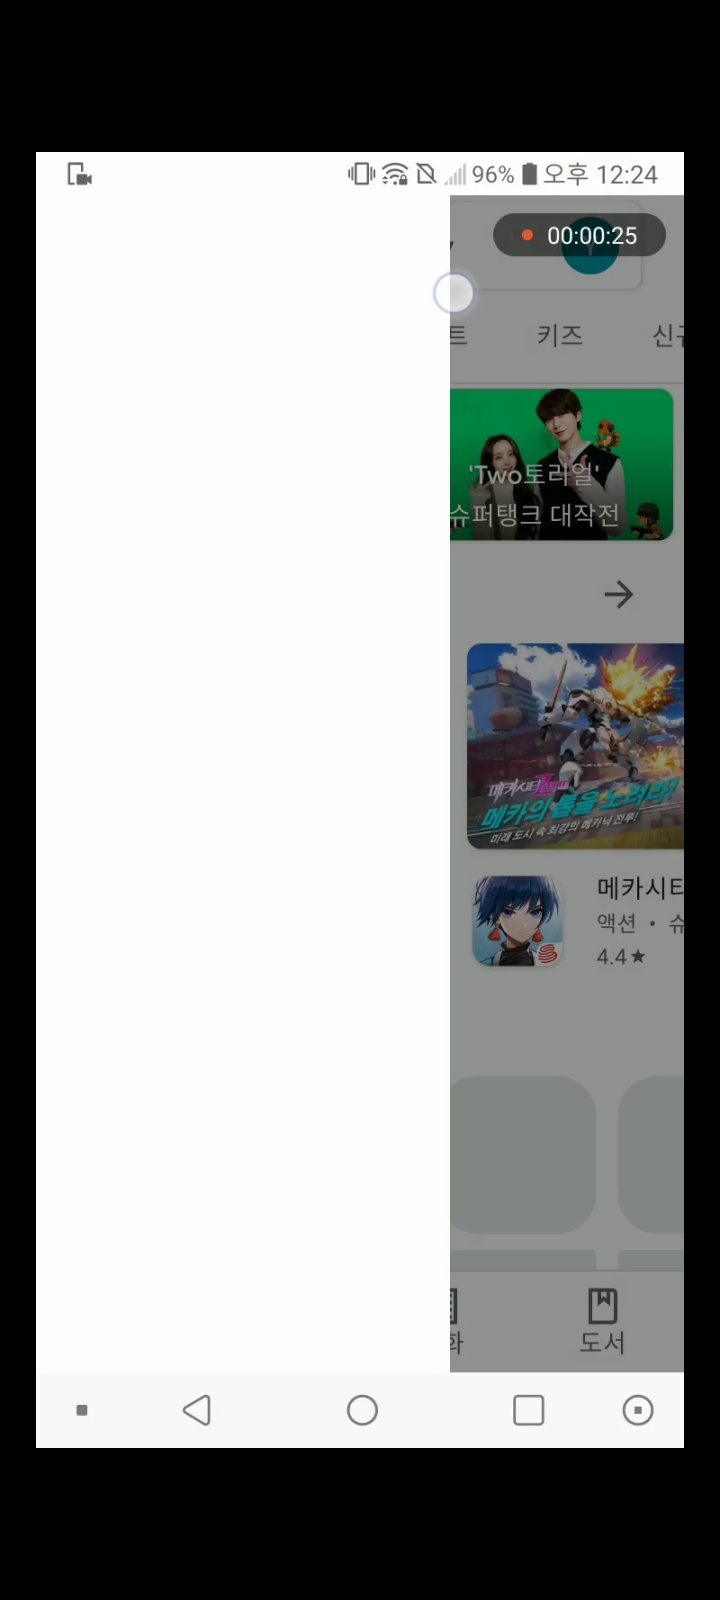Cursor: (433, 270, 478, 315)
